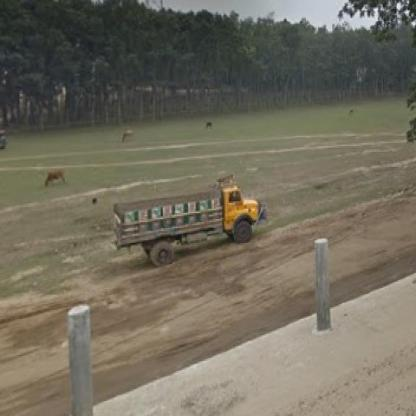truck: (110, 178, 266, 262)
